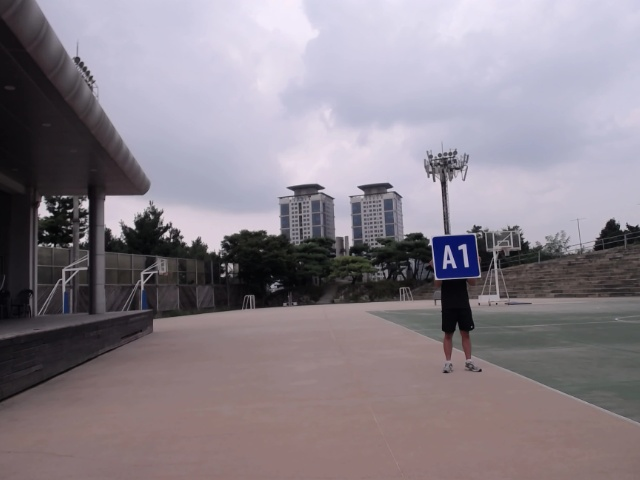delivery_a1: (432, 234, 480, 280)
